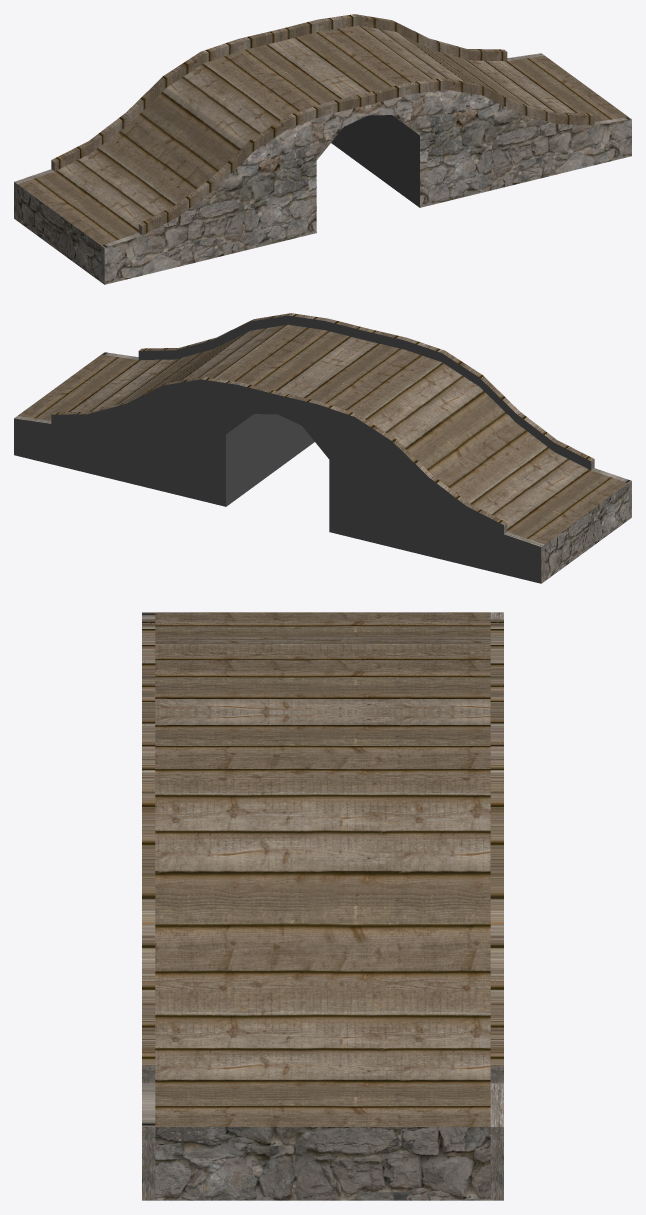
Rendered from bridge.fbx.
3 renders of one model, top to bottom at view 1: azimuth 30°, elevation 25°; view 2: azimuth 150°, elevation 25°; view 3: azimuth 270°, elevation 25°, orthographic. The views are drawn at different scales.
Visible parts, largest first — view 1: bridge; view 2: bridge; view 3: bridge.
Boxes of the visible parts, left/top/right/bottom form: bridge: left=14, top=14, right=631, bottom=284; bridge: left=14, top=313, right=631, bottom=583; bridge: left=142, top=612, right=503, bottom=1200.
Size of the model in its own units: 1817 by 411 by 540.
